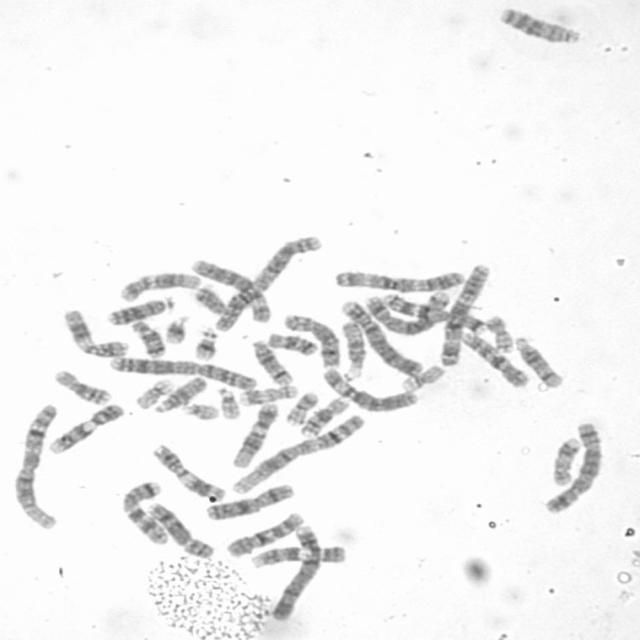A1: (224, 409, 367, 496), (8, 398, 62, 532)
A2: (208, 230, 326, 332), (103, 351, 260, 391)
A3: (434, 256, 494, 368), (329, 263, 468, 293)
B4: (335, 294, 426, 378), (264, 520, 324, 622)
B5: (539, 416, 606, 516), (360, 285, 453, 336)
C10: (456, 326, 532, 390), (220, 507, 307, 558)
C11: (145, 438, 229, 502), (57, 304, 130, 359)
C12: (226, 397, 281, 470), (113, 266, 203, 303)
C6: (186, 253, 273, 324), (316, 364, 421, 413)
C7: (383, 289, 489, 341), (116, 476, 171, 546)
C8: (142, 497, 216, 560), (278, 308, 343, 369)
C9: (41, 398, 126, 455), (245, 540, 350, 570)
D13: (494, 1, 583, 46), (101, 291, 175, 326)
D14: (509, 331, 567, 389), (246, 334, 295, 387)
D15: (148, 371, 208, 414), (336, 314, 368, 381)
E16: (48, 364, 113, 406), (294, 392, 352, 438)
E17: (546, 432, 583, 488), (235, 380, 300, 406)
E18: (126, 315, 168, 358), (262, 328, 320, 358)
F19: (395, 360, 447, 392), (129, 374, 175, 410)
F20: (279, 386, 321, 426), (481, 310, 516, 354)
G21: (189, 324, 220, 361), (158, 310, 190, 345)
G22: (211, 382, 242, 421), (177, 397, 221, 422)
X: (200, 479, 296, 522)
Y: (189, 280, 229, 316)
